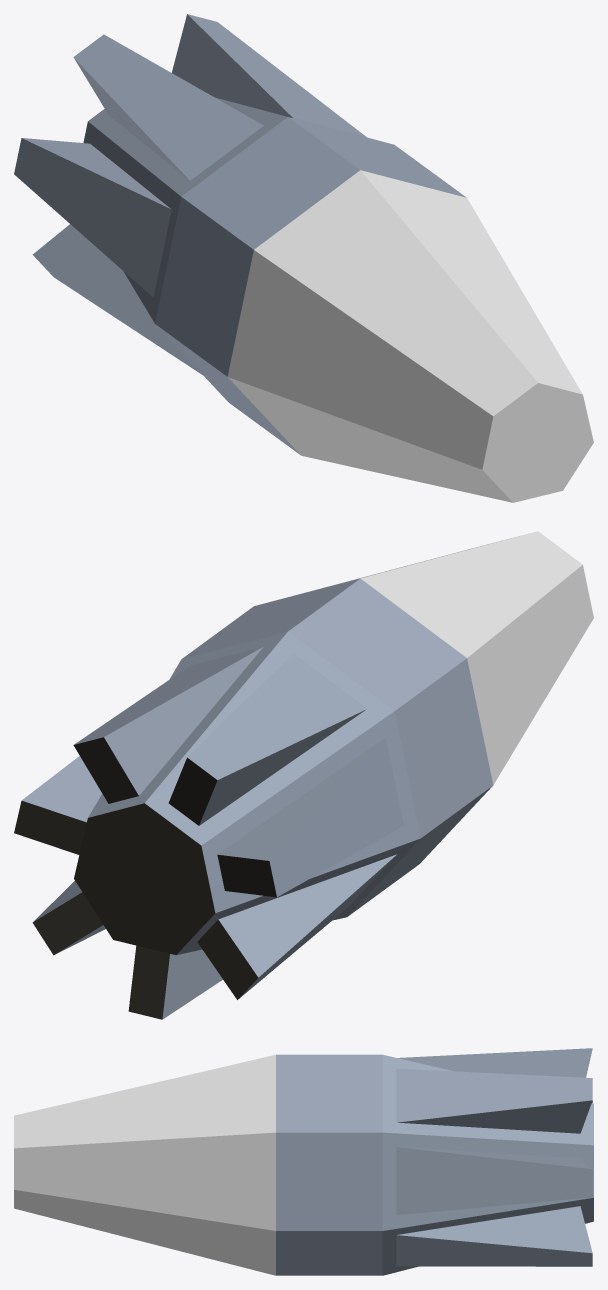
The model's file is 01_torpedo_partell.glb.
The picture shows the model from 3 angles, top to bottom: view 1: azimuth 30°, elevation 25°; view 2: azimuth 150°, elevation 25°; view 3: azimuth 270°, elevation 25°; orthographic projection. The views are drawn at different scales.
Visible parts, largest first — view 1: 01_torpedo_partell; view 2: 01_torpedo_partell; view 3: 01_torpedo_partell.
Boxes of the visible parts, left/top/right/bottom form: 01_torpedo_partell: left=14, top=14, right=593, bottom=502; 01_torpedo_partell: left=14, top=531, right=593, bottom=1019; 01_torpedo_partell: left=14, top=1048, right=593, bottom=1275.
Size of the model in its own units: 0.39 by 0.3922 by 1.
